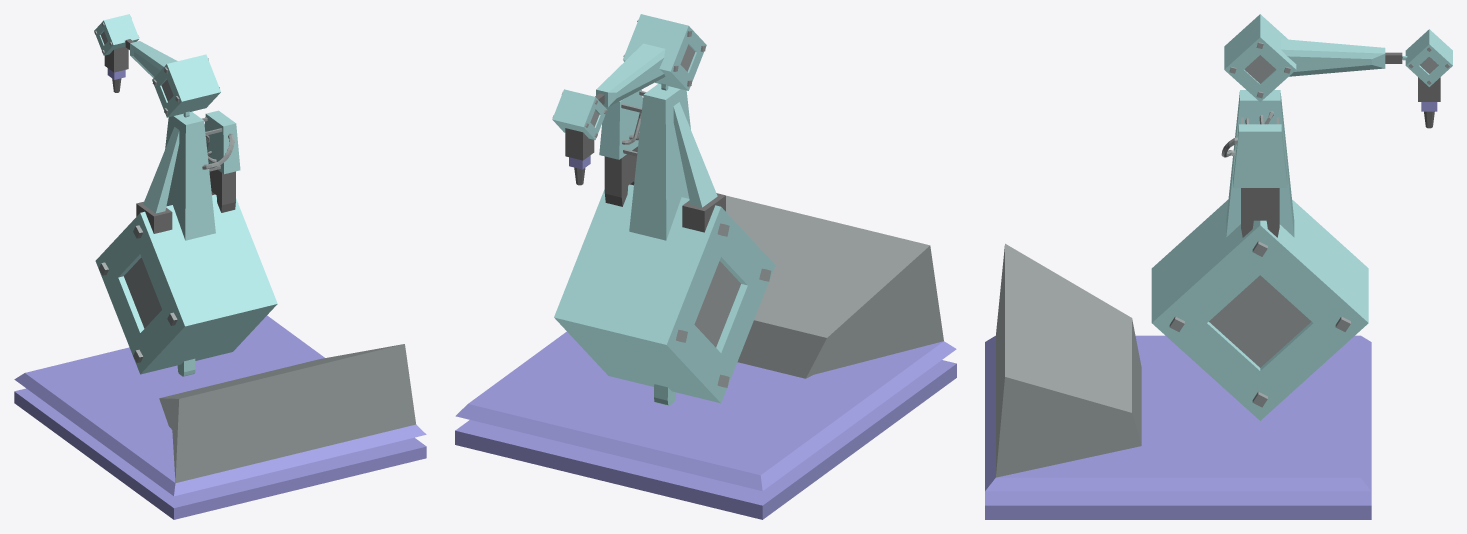
The model's file is Bra+ºo Mecanico Montagem.fbx.
3 views of the same model, side by side, from view 1: azimuth 30°, elevation 25°; view 2: azimuth 150°, elevation 25°; view 3: azimuth 270°, elevation 25° (orthographic). The views are drawn at different scales.
Visible parts, largest first — view 1: Cube.001; view 2: Cube.001; view 3: Cube.001.
Part boxes in pixels (left/top/right/bottom): Cube.001: left=14, top=14, right=426, bottom=519; Cube.001: left=455, top=14, right=956, bottom=519; Cube.001: left=985, top=14, right=1452, bottom=519.
Bounding box in the file's own units: 446 × 584 × 590.
